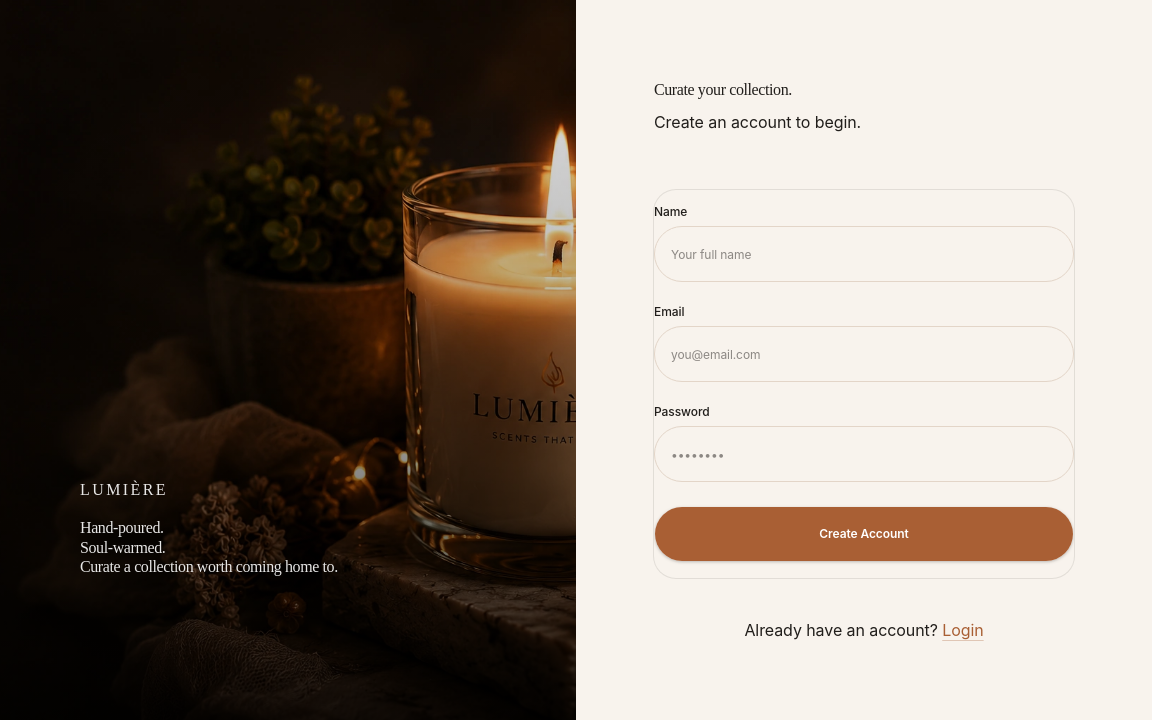
it: RegisterPage › shows a generic error on a non‑Axios rejection (e.g. network drop)
Type "Jane" into the field labelled "Name" at [864, 254], box left=654, top=226, right=1074, bottom=282
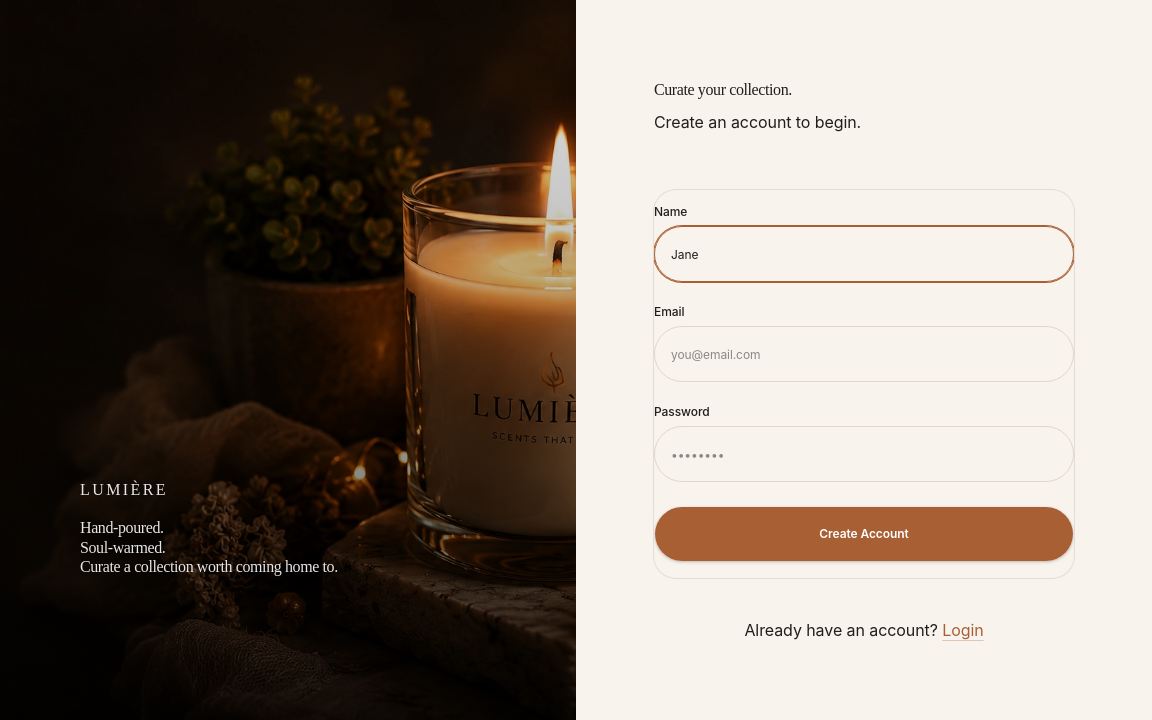
Type "jane@example.com" into the field labelled "Email" at [864, 354], box left=654, top=326, right=1074, bottom=382
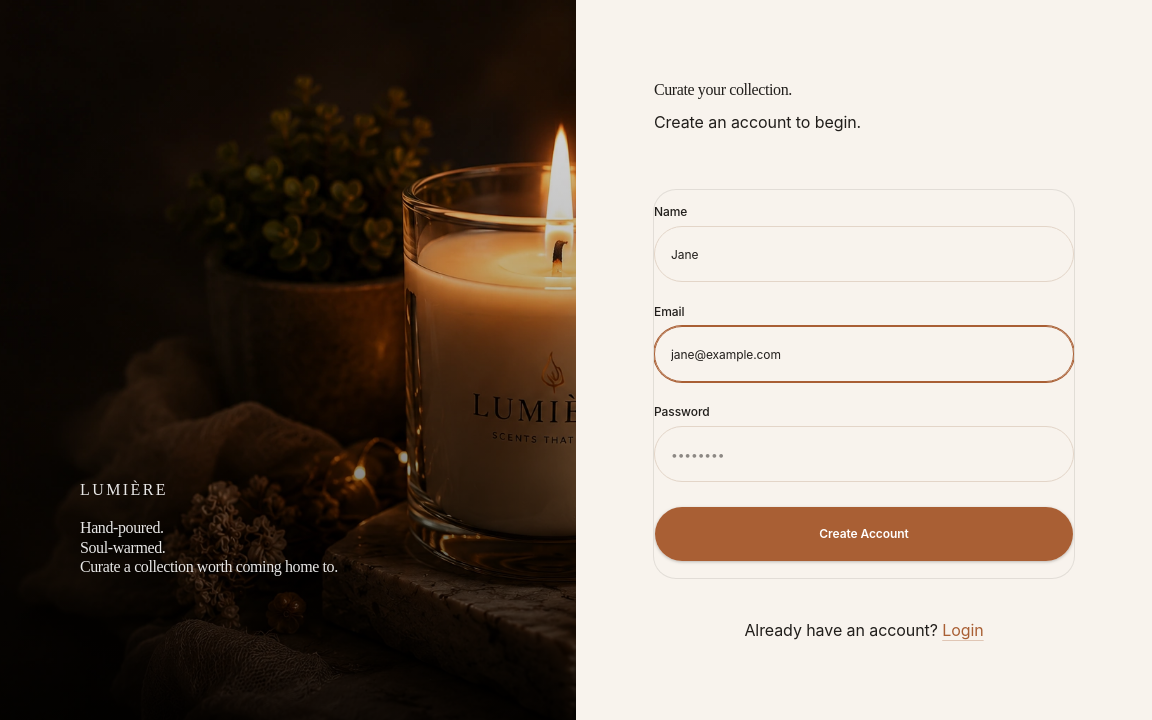
Type "password123" into the password field labelled "Password" at [864, 454], box left=654, top=426, right=1074, bottom=482
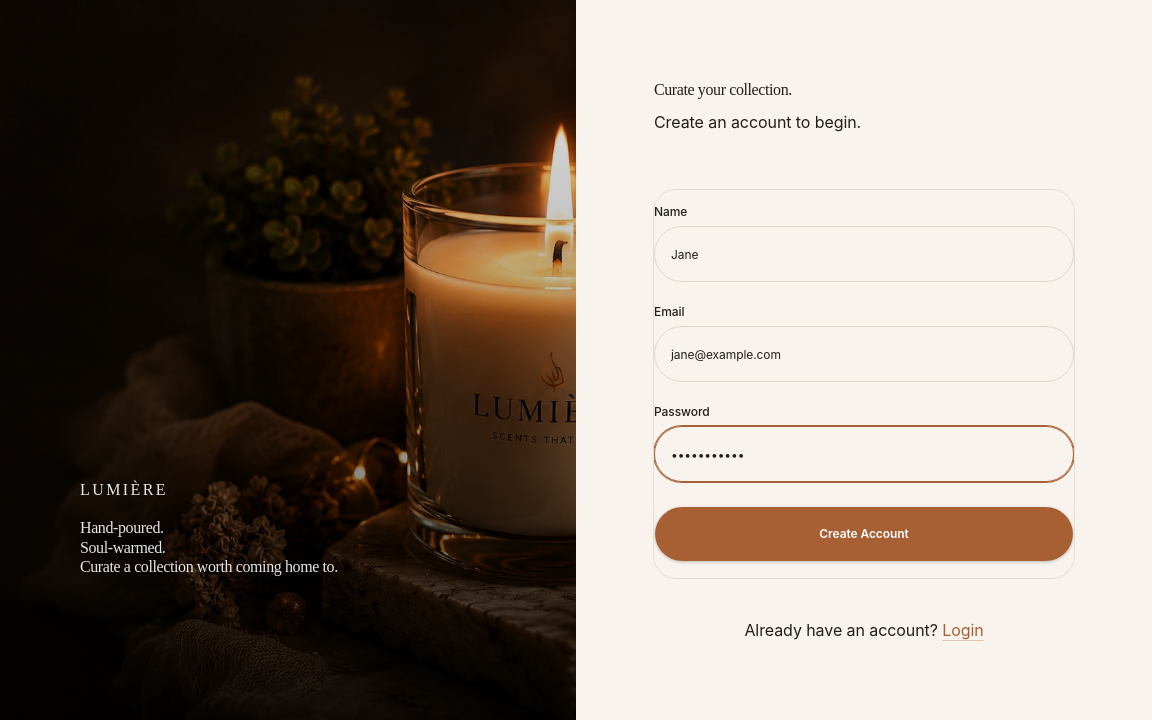
Click the button "Create Account" at [864, 534], box left=654, top=506, right=1074, bottom=562
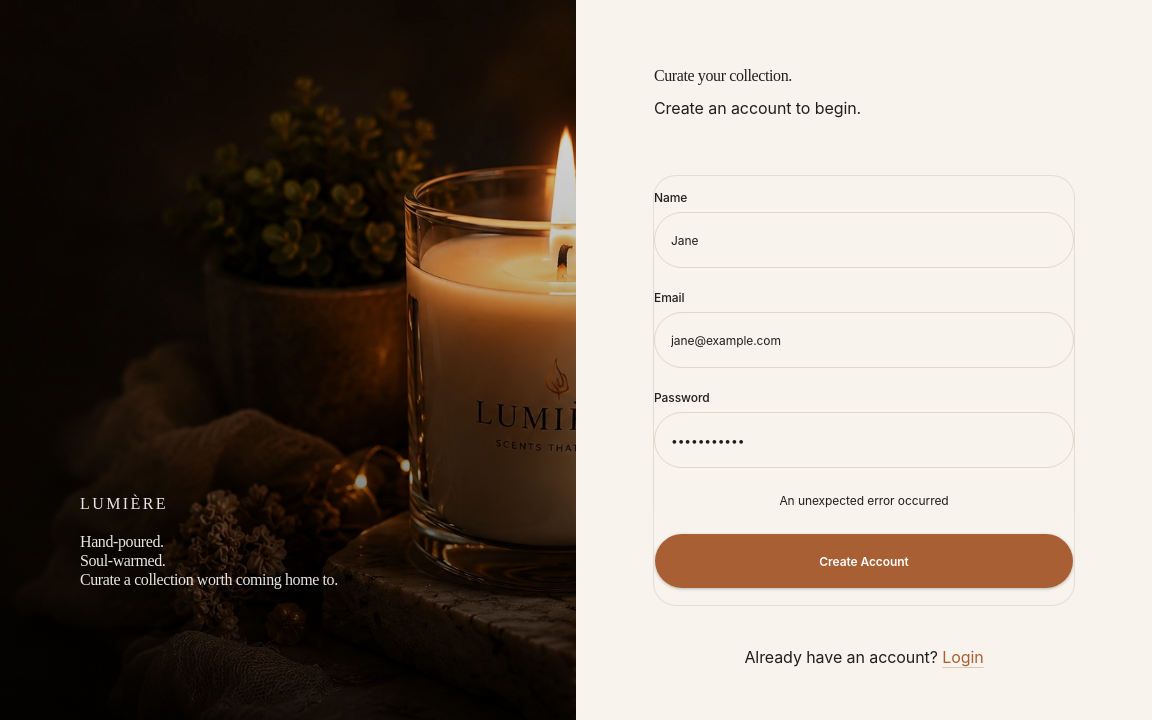
Expected: the text "An unexpected error occurred" is shown, left=779, top=493, right=949, bottom=508
